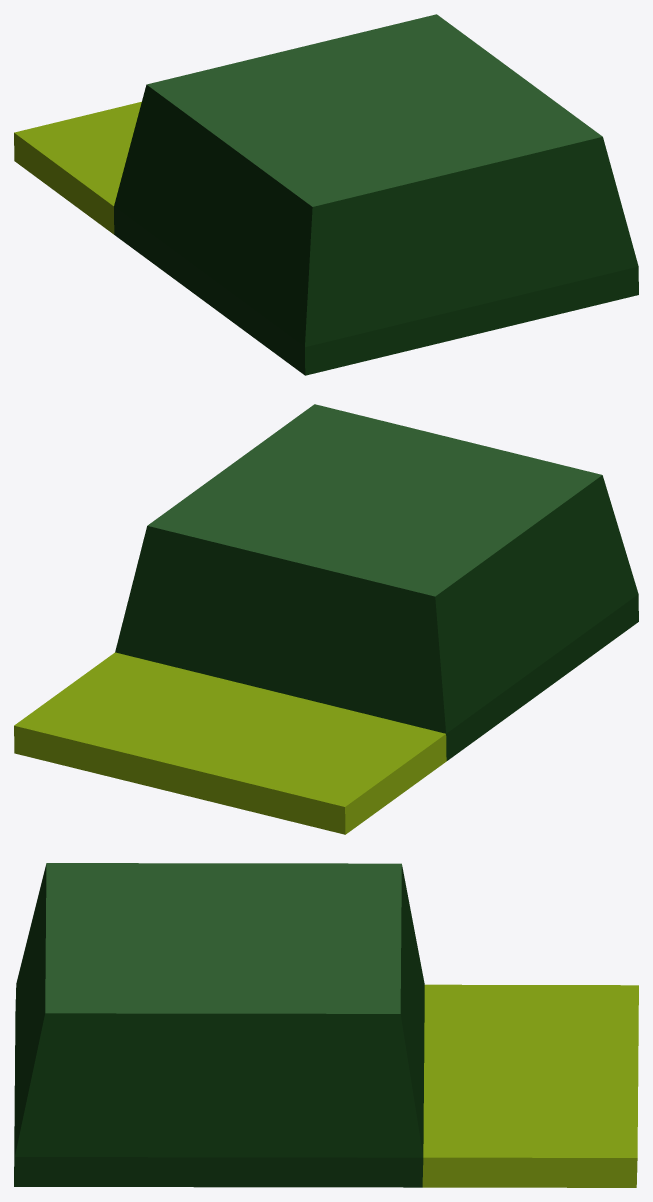
The model's file is snapback.obj.
3 renders of one model, top to bottom at view 1: azimuth 30°, elevation 25°; view 2: azimuth 150°, elevation 25°; view 3: azimuth 270°, elevation 25°, orthographic. The views are drawn at different scales.
Parts seen in each view (by area): view 1: Cube; view 2: Cube; view 3: Cube.
Boxes of the visible parts, x1=… form: Cube: x1=14, y1=14, x2=638, y2=375; Cube: x1=14, y1=404, x2=638, y2=834; Cube: x1=14, y1=863, x2=638, y2=1187.
Size of the model in its own units: 0.1563 by 0.0681 by 0.2374.
